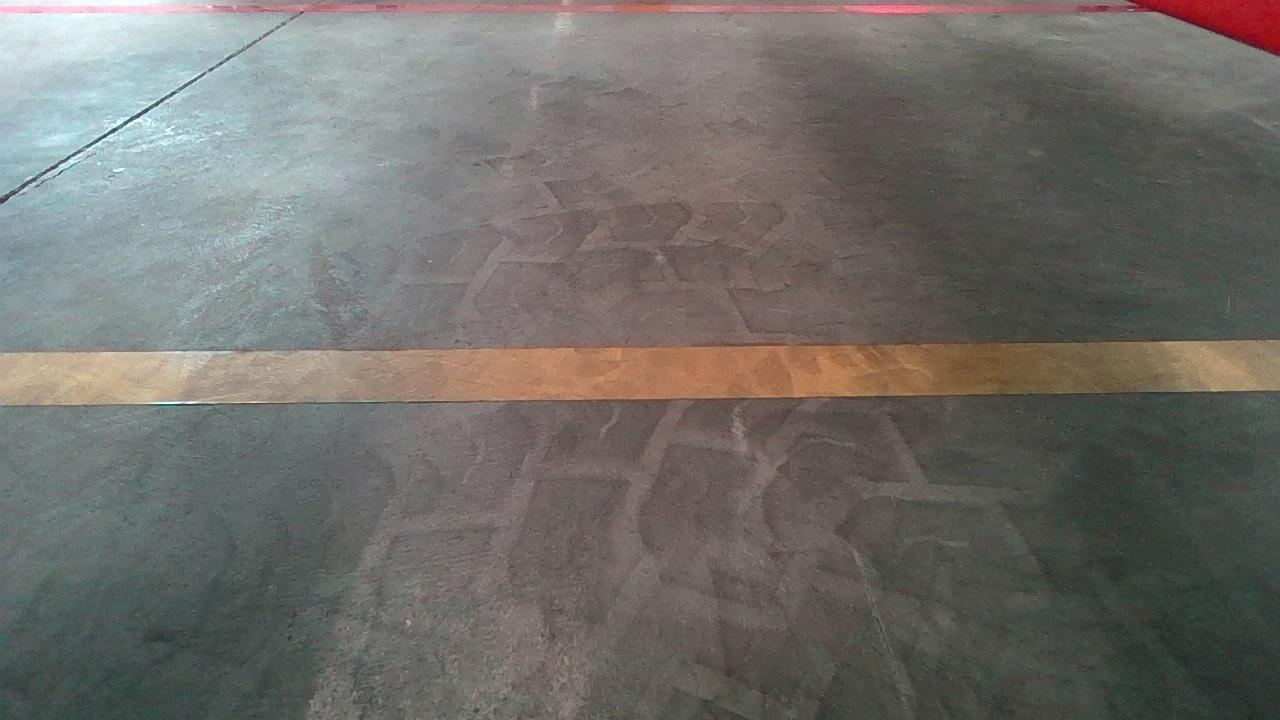red_line: (0, 1, 1144, 11)
yellow_line: (8, 335, 1280, 402)
